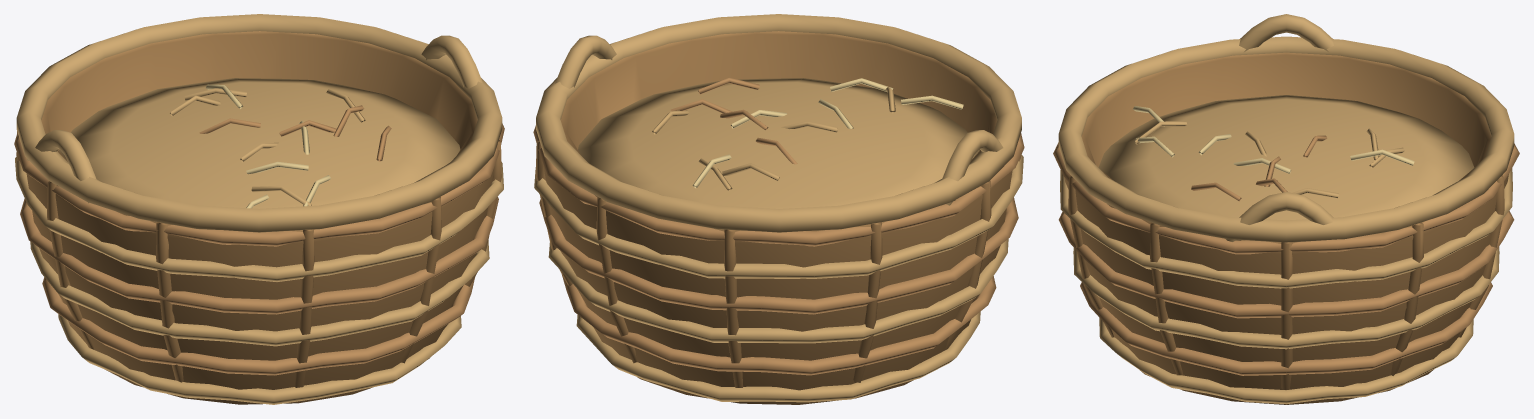
Rendered from basket.glb.
3 views of the same model, side by side, from view 1: azimuth 30°, elevation 25°; view 2: azimuth 150°, elevation 25°; view 3: azimuth 270°, elevation 25° (orthographic). The views are drawn at different scales.
Visible parts, largest first — view 1: basket; view 2: basket; view 3: basket.
Boxes of the visible parts, left/top/right/bottom form: basket: left=14, top=14, right=504, bottom=404; basket: left=533, top=14, right=1024, bottom=404; basket: left=1053, top=14, right=1519, bottom=404.
Bounding box in the file's own units: 0.44 × 0.24 × 0.44.
